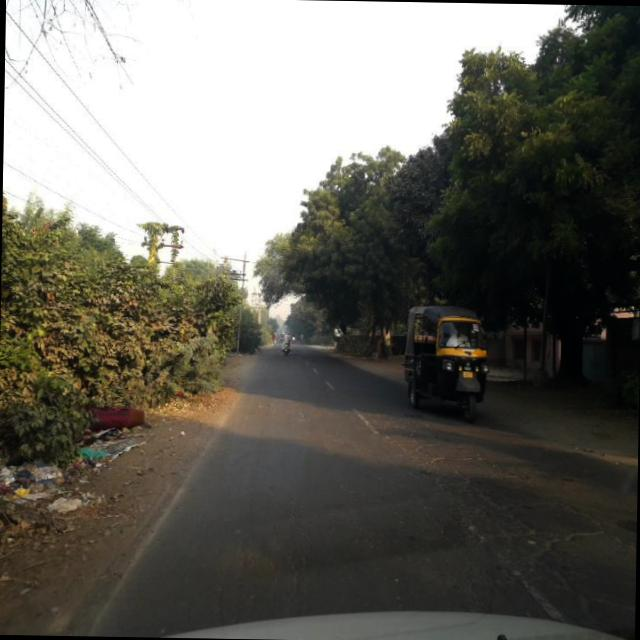crack: (382, 423, 623, 621)
